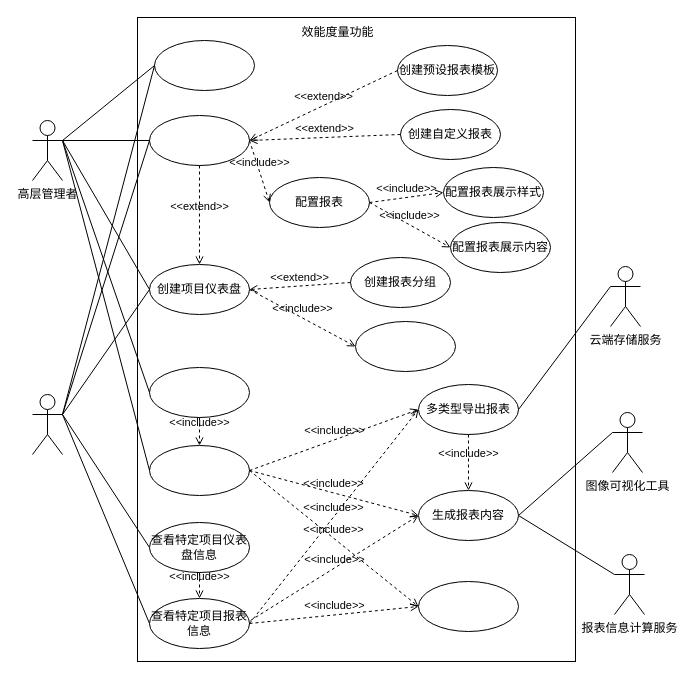
This 694x679 diagram has some shape labels left out. The shapes that lost their labels are listed below. From the top down, each one's centre as x and y in pixels, then its label:
At (x=204, y=65): "自定义配置指标".
At (x=199, y=140): "创建多类型报表".
At (x=405, y=346): "关联报表".
At (x=199, y=392): "查看仪表盘信息".
At (x=47, y=424): "中层管理者".
At (x=199, y=470): "查看报表信息".
At (x=468, y=606): "查看报表下钻信息".
